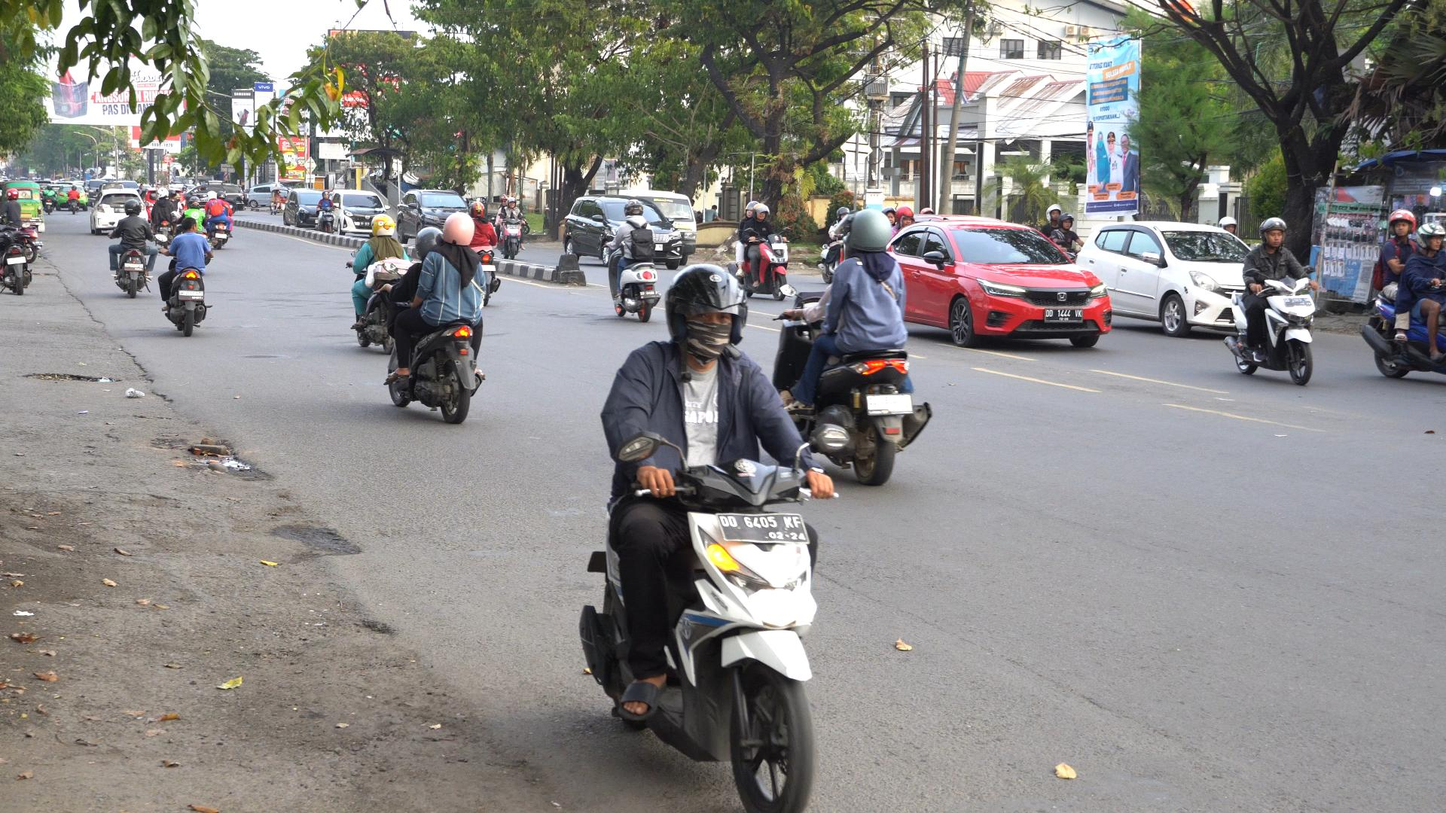number-plate: (713, 510, 813, 551)
